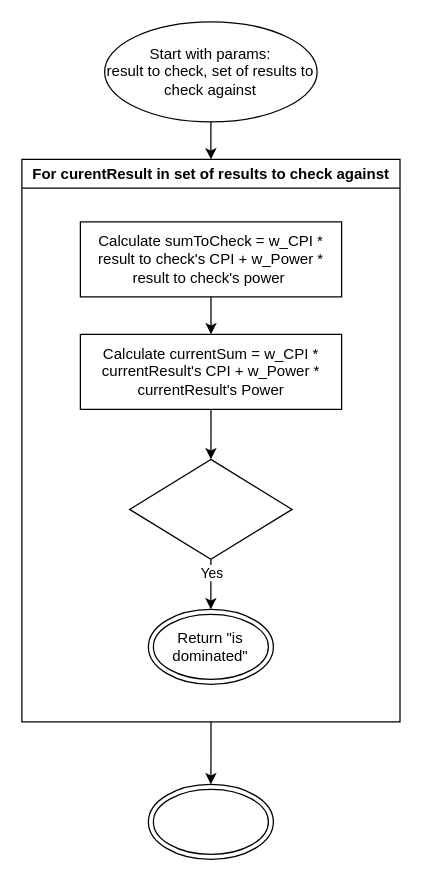
The diagram is 423 pixels wide and 881 high, and some of its shapes have lost their labels. The shapes that lost their labels are listed below. From the top down, each one's box as (x1, y1, x2, y2) in pixels, then its label:
(128, 458, 292, 559): sumToCheck > currentSum
(147, 783, 273, 859): Return "is not dominated"
